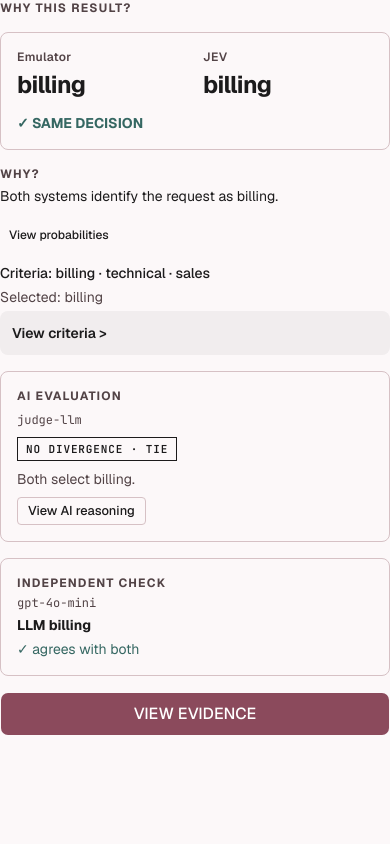
Scenario: WhyView — rubric / criteria disclosure (§40) › opens the full criteria detail on demand (mobile Bottom Drawer)
Click the button "View criteria >".
click(59, 333)  # box [0,311,389,355]
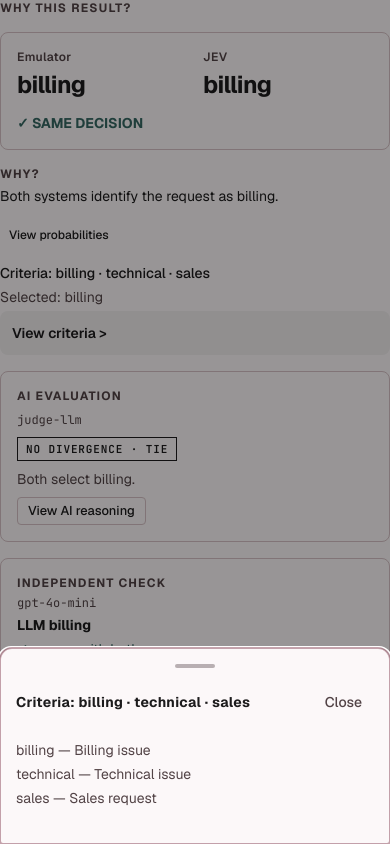
Expected: the list item "billing — Billing issue" is shown, [16,741,151,759]
